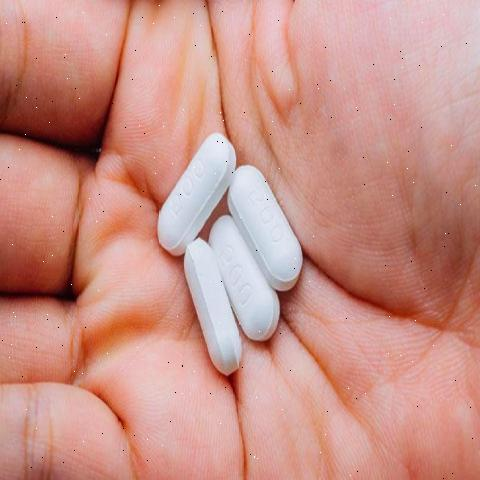Pill: (140, 126, 236, 255), (236, 148, 318, 296), (177, 242, 239, 379)
